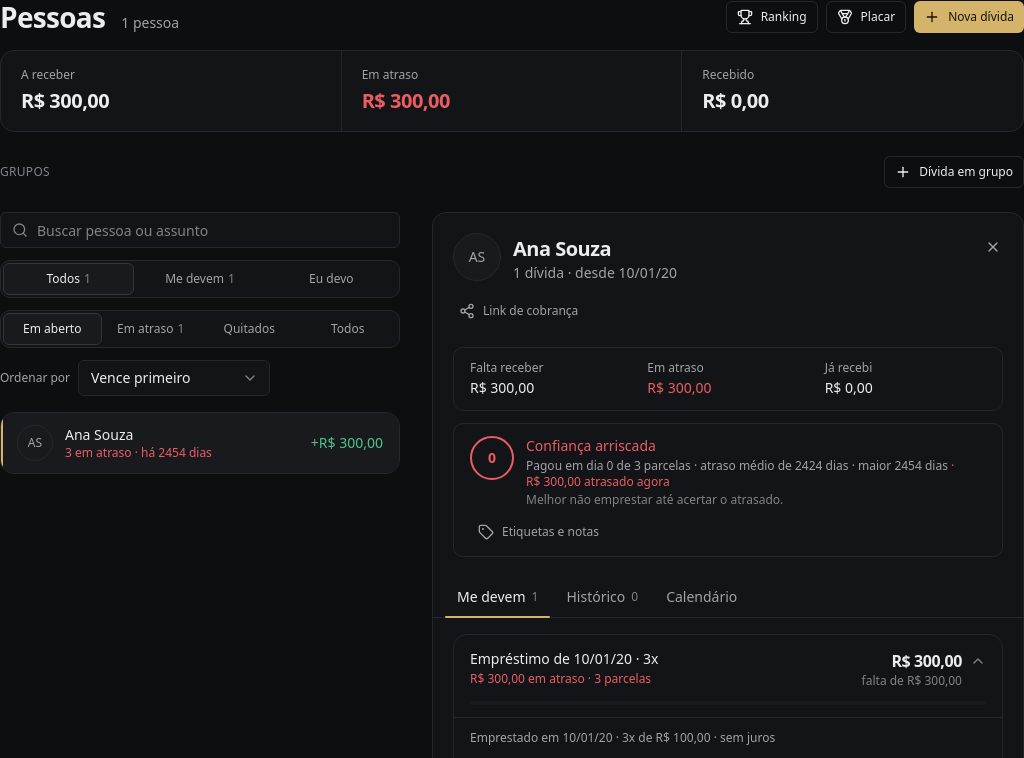
Pessoas: etiquetas, notas e confiança › salva etiquetas e notas no contato, sem perder o telefone
The image size is (1024, 758).
Click the button "Etiquetas e notas" at (538, 532), box [470,520,607,544]
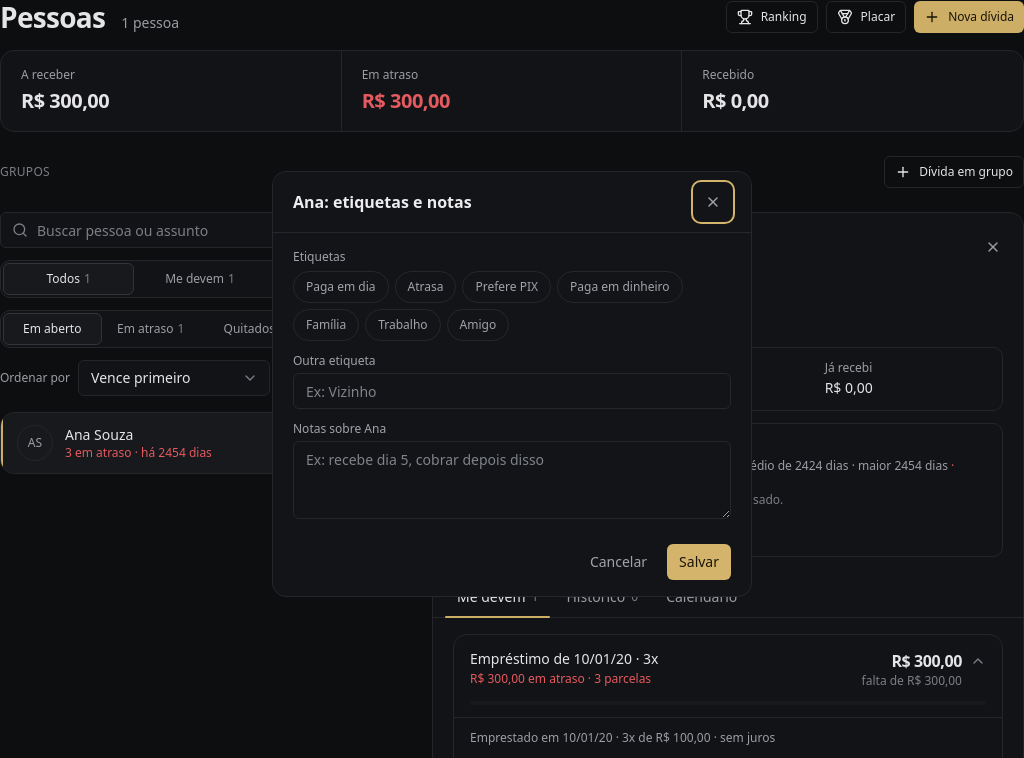
Click the button "Família" at (326, 325), box [293,309,359,341]
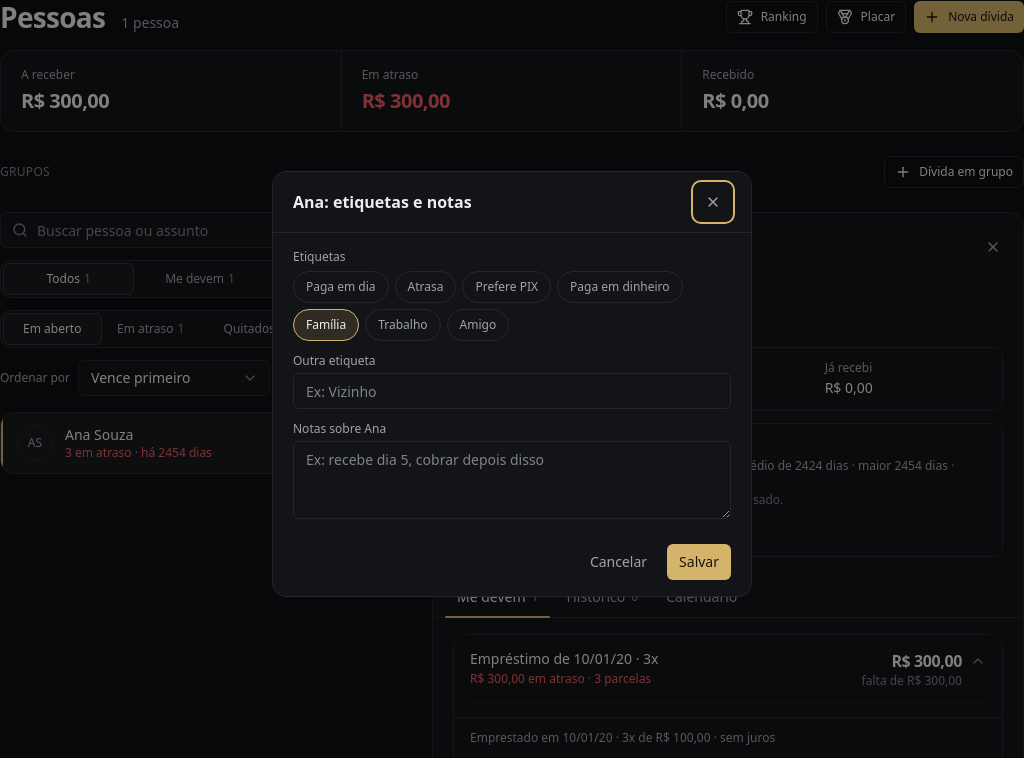
Type "Vizinha" into the field labelled "Outra etiqueta" at (512, 391), box [293,373,731,409]
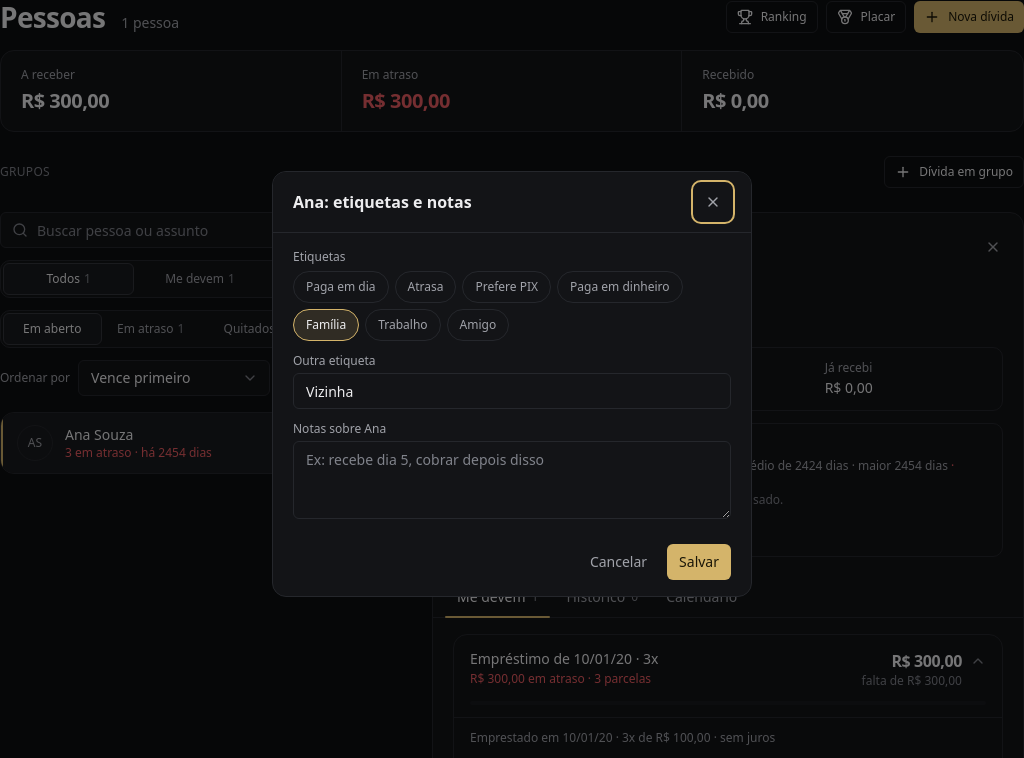
Type "recebe dia 5" into the text box labelled "Notas sobre Ana" at (512, 480), box [293,441,731,519]
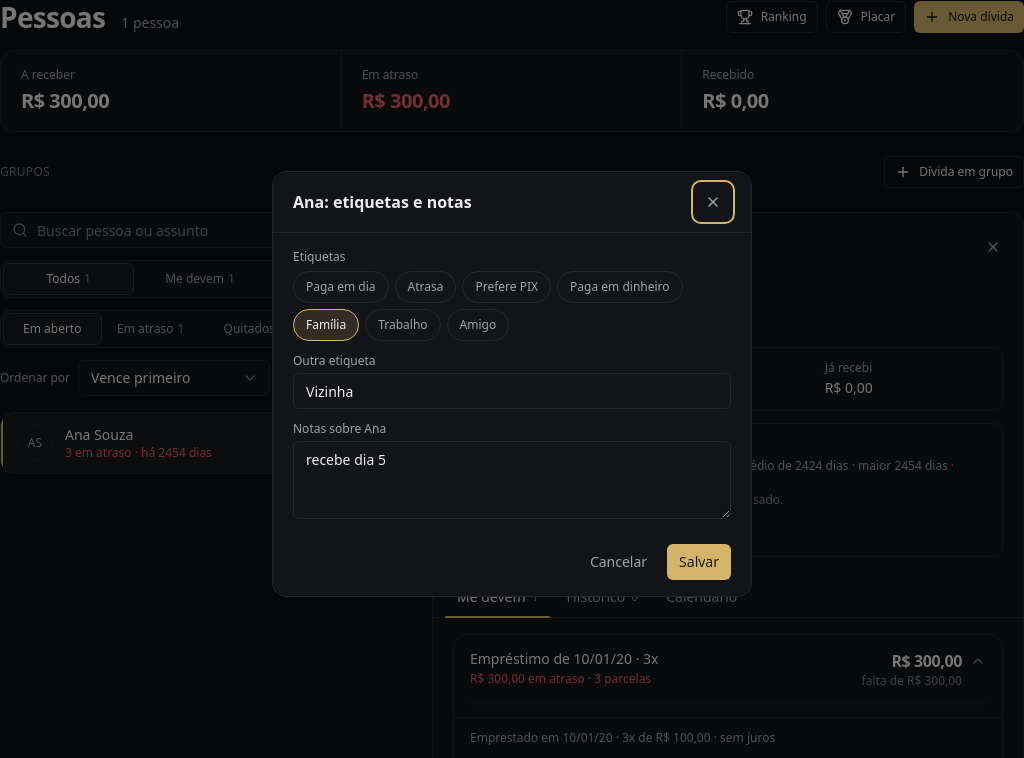
Click the button "Salvar" at (699, 562), box [667,544,731,580]
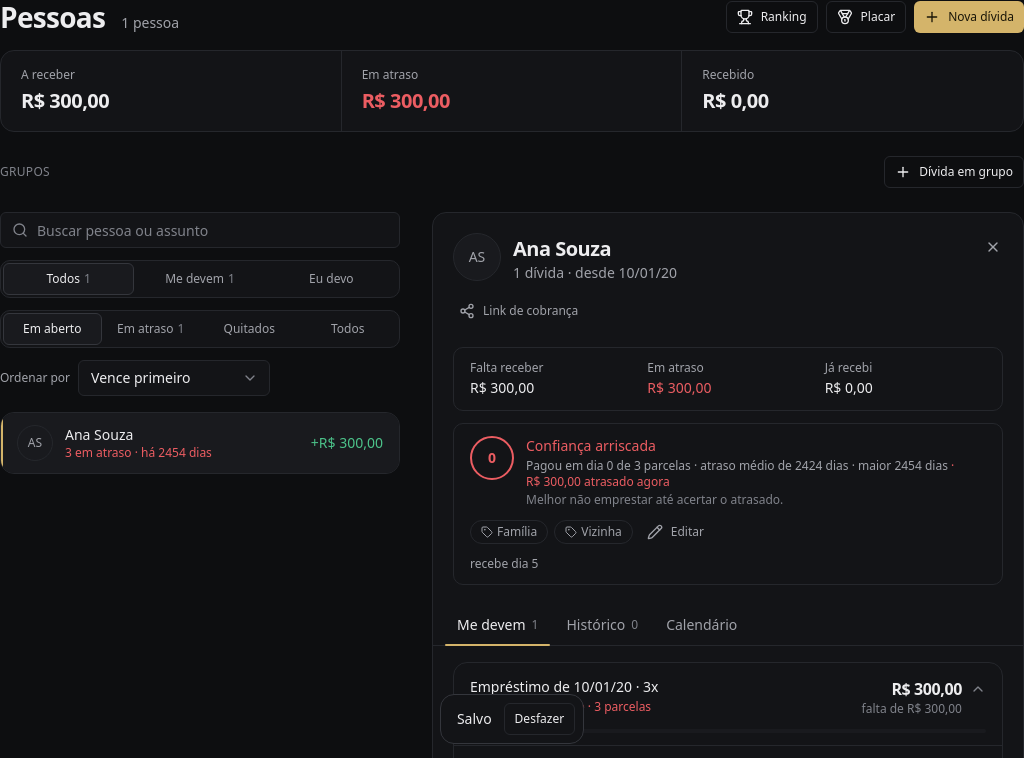
Expected: the text "recebe dia 5" is shown, [470,555,538,572]
